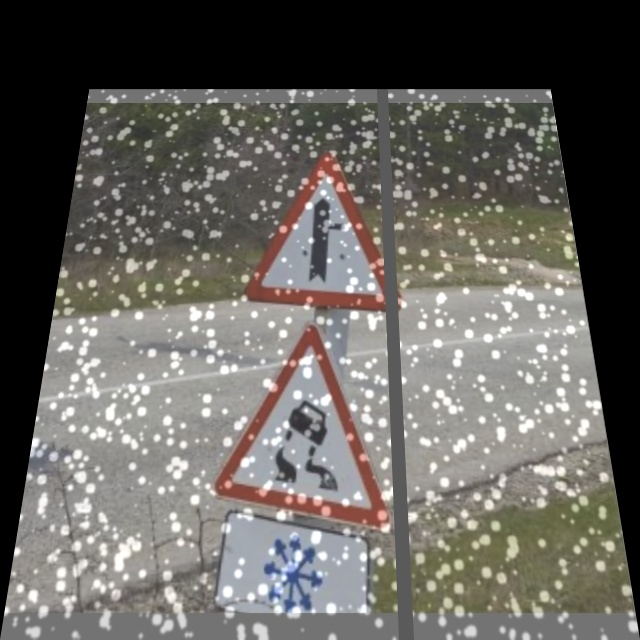Slippery_Road: (216, 322, 402, 512)
